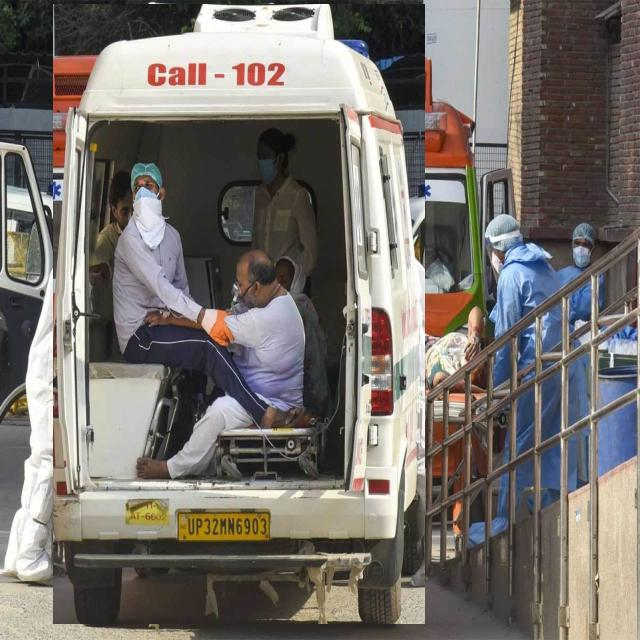emergency: (53, 5, 424, 624), (381, 56, 491, 340), (0, 144, 50, 400), (485, 169, 515, 212), (472, 422, 486, 478), (449, 393, 465, 436), (449, 438, 464, 478), (472, 393, 486, 418), (435, 398, 442, 444), (432, 451, 441, 477)
